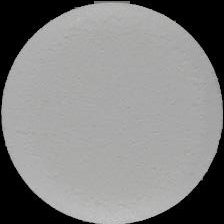64205-161: (0, 0, 224, 224)
